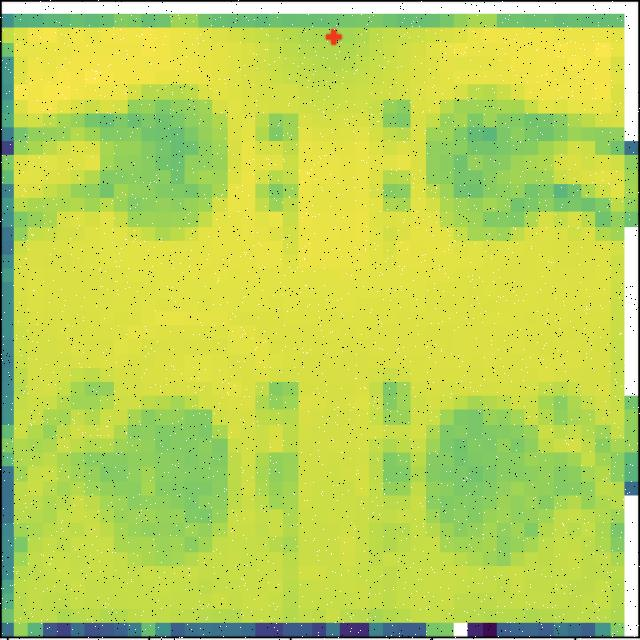Concrete: (95, 81, 235, 247)
Glass: (428, 386, 570, 578)
Metal: (90, 387, 236, 568)
Wood: (427, 81, 572, 252)
